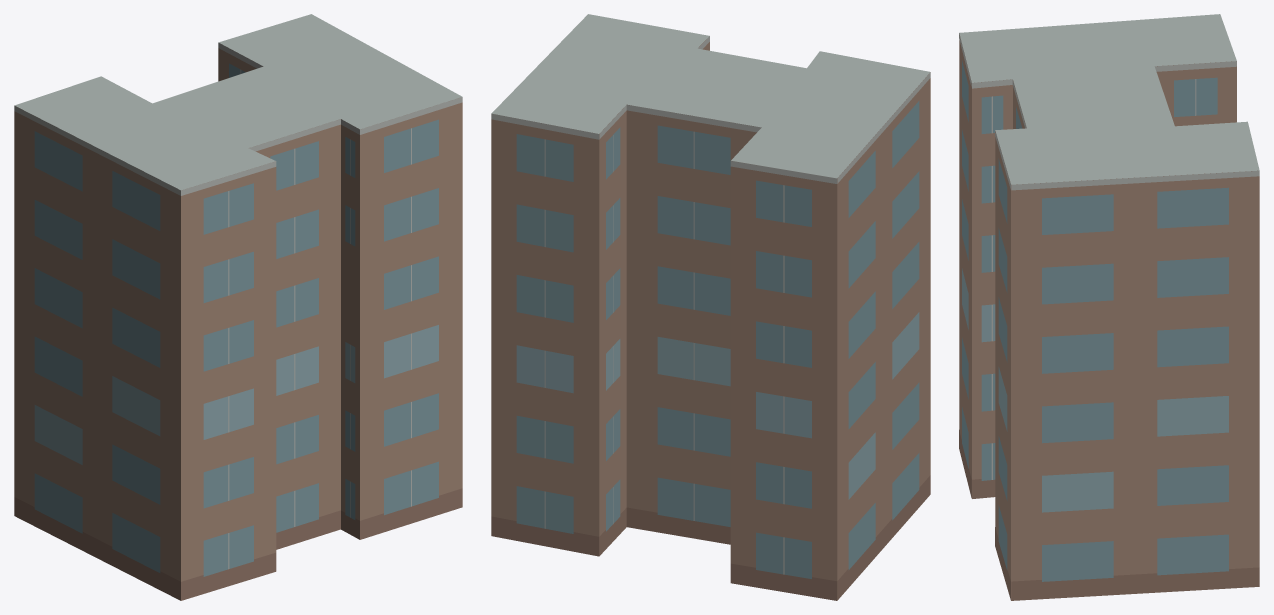
File: survey-upis-32729383.glb
The picture shows the model from 3 angles, left to right: view 1: azimuth 30°, elevation 25°; view 2: azimuth 150°, elevation 25°; view 3: azimuth 270°, elevation 25°; orthographic projection. The views are drawn at different scales.
Parts seen in each view (by area): view 1: survey-upis-32729383.tmp; view 2: survey-upis-32729383.tmp; view 3: survey-upis-32729383.tmp.
Boxes of the visible parts, box(x1,y1,x2,y2) form: survey-upis-32729383.tmp: box(14, 14, 462, 600); survey-upis-32729383.tmp: box(491, 14, 930, 600); survey-upis-32729383.tmp: box(959, 14, 1259, 600).
Size of the model in its own units: 15.76 by 17.9 by 11.72.
